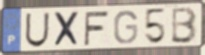5: (143, 7, 168, 46)
B: (170, 6, 199, 45)
F: (83, 10, 110, 47)
G: (112, 9, 140, 46)
U: (24, 12, 51, 49)
X: (52, 10, 82, 48)
